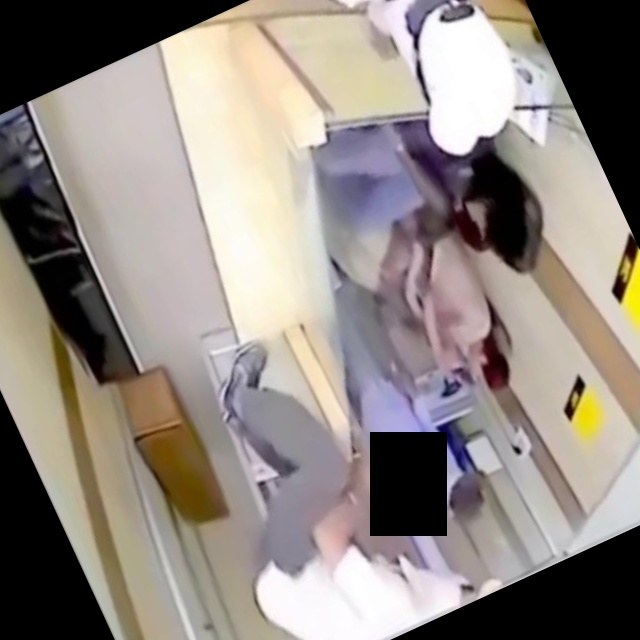gun: (367, 436, 370, 496)
